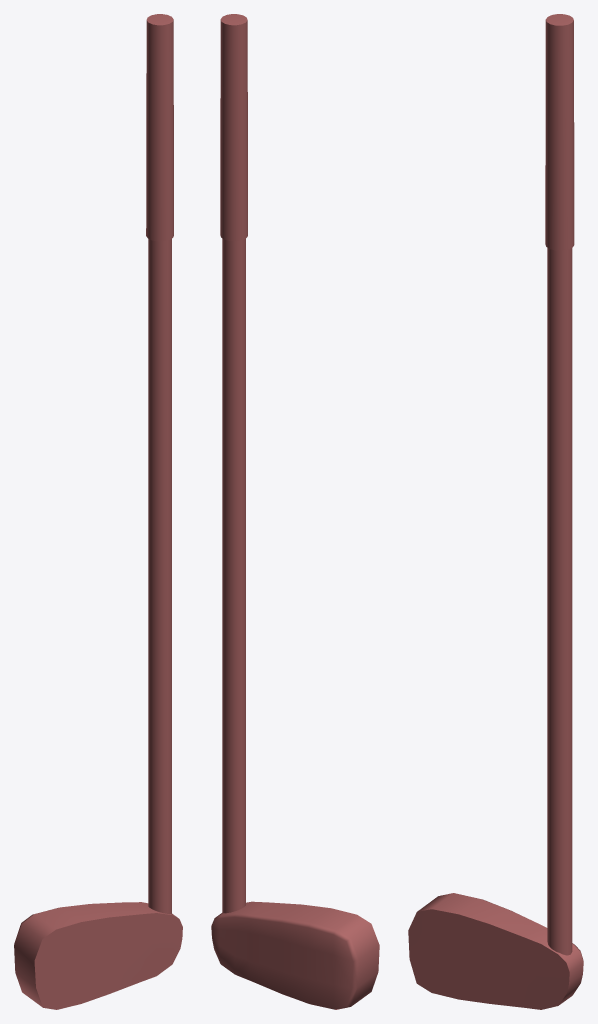
The model's file is golf_palo.fbx.
3 views of the same model, side by side, from view 1: azimuth 30°, elevation 25°; view 2: azimuth 150°, elevation 25°; view 3: azimuth 330°, elevation 25° (orthographic). The views are drawn at different scales.
Parts seen in each view (by area): view 1: palo_golf; view 2: palo_golf; view 3: palo_golf.
Boxes of the visible parts, x1,y1,x2,y2 form: palo_golf: (14,14,182,1009); palo_golf: (211,14,379,1009); palo_golf: (408,14,583,1009).
Size of the model in its own units: 0.53 by 3.19 by 0.1486.
